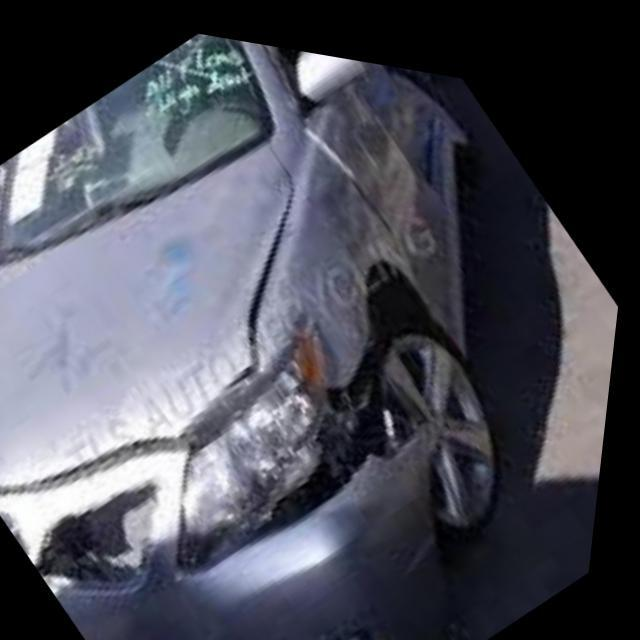dislocated part: (0, 160, 314, 505), (174, 307, 446, 579)
no part: (38, 485, 182, 594)
